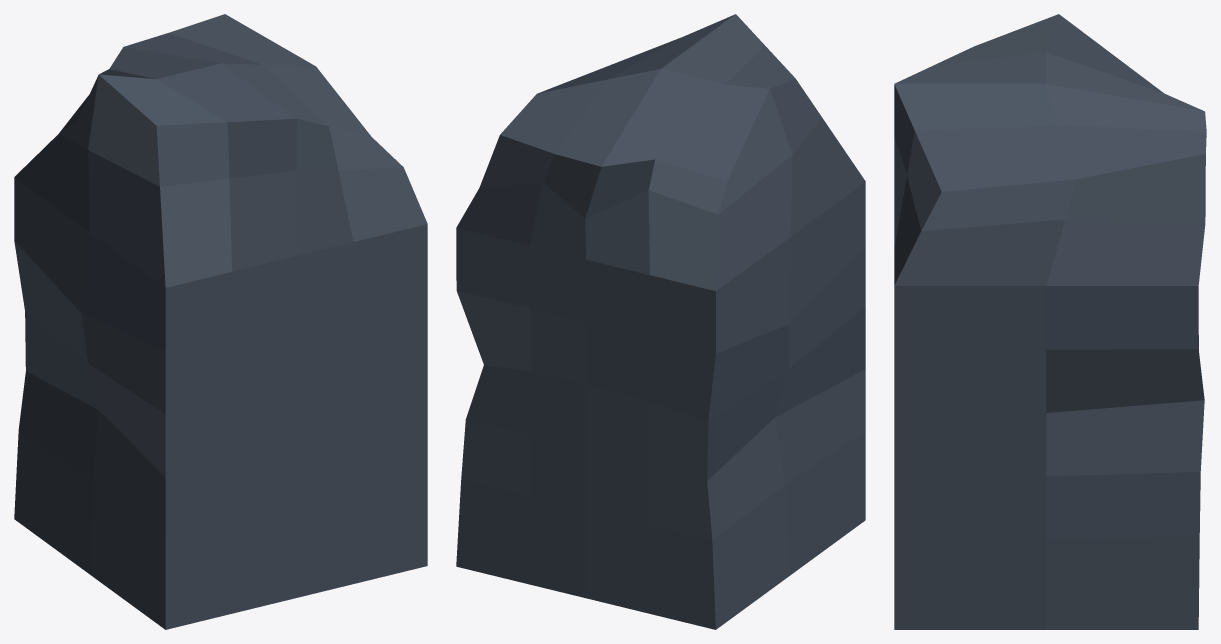
Rendered from Stone_4.fbx.
The picture shows the model from 3 angles, left to right: view 1: azimuth 30°, elevation 25°; view 2: azimuth 150°, elevation 25°; view 3: azimuth 270°, elevation 25°; orthographic projection.
Visible parts, largest first — view 1: Stone_4; view 2: Stone_4; view 3: Stone_4.
Part boxes in pixels (x1,y1,x2,y2): Stone_4: [14, 14, 427, 629]; Stone_4: [456, 14, 865, 629]; Stone_4: [894, 14, 1206, 629].
Size of the model in its own units: 63.62 by 113 by 64.5.
